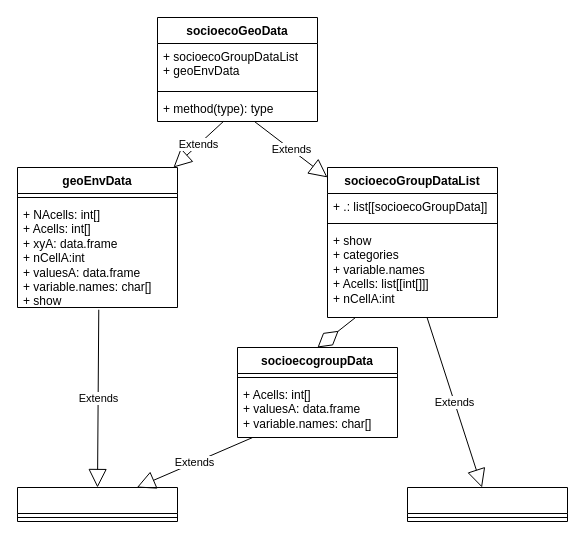
The diagram is 585 pixels wide and 539 high, and some of its shapes have lost their labels. Each missing label, with the centre of its shape:
"list" belongs at [487,504].
"rasterStack" belongs at [97,504].
